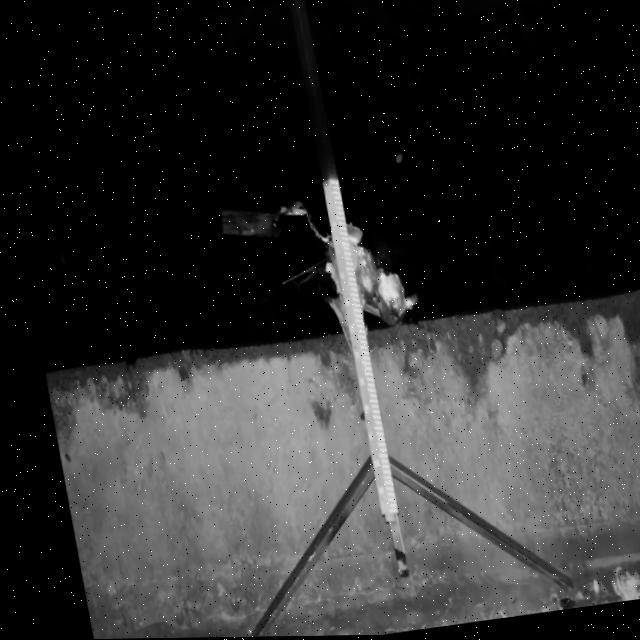water-meter: (310, 161, 404, 521)
